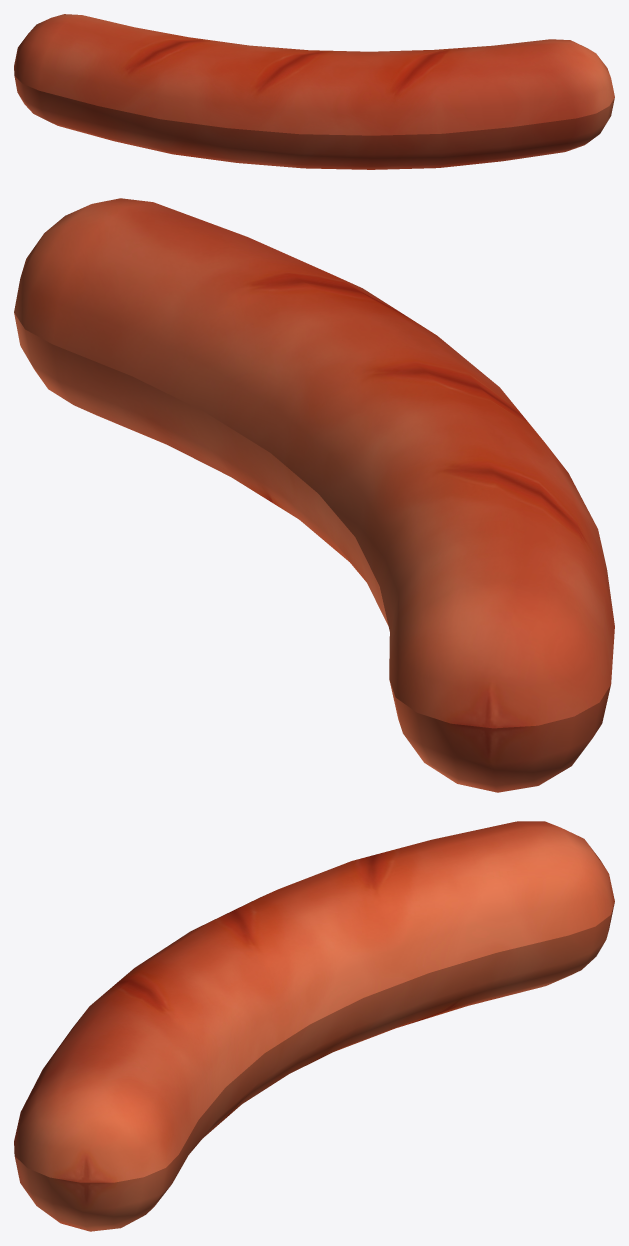
File: Sausage.fbx
The picture shows the model from 3 angles, top to bottom: view 1: azimuth 30°, elevation 25°; view 2: azimuth 150°, elevation 25°; view 3: azimuth 270°, elevation 25°; orthographic projection. The views are drawn at different scales.
Visible parts, largest first — view 1: Sausage_1; view 2: Sausage_1; view 3: Sausage_1.
Boxes of the visible parts, left/top/right/bottom form: Sausage_1: left=14, top=14, right=614, bottom=169; Sausage_1: left=14, top=198, right=614, bottom=792; Sausage_1: left=14, top=821, right=614, bottom=1231.
Bounding box in the file's own units: 47.71 × 11.17 × 38.54.
1 material, 1 textured.
